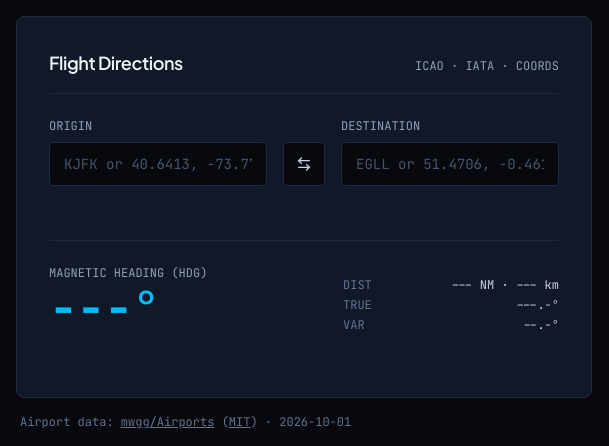
Test: App › shows not found for an unknown airport code
Type "ZZZZ" into the field labelled "ORIGIN". click: coordinates (158, 164)
box: top-left (49, 142), bottom-right (267, 186)
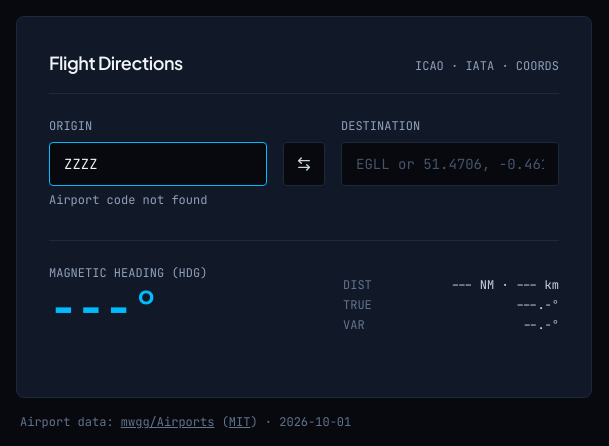
Result: the text "Airport code not found" is shown at top-left (49, 192), bottom-right (207, 208)
